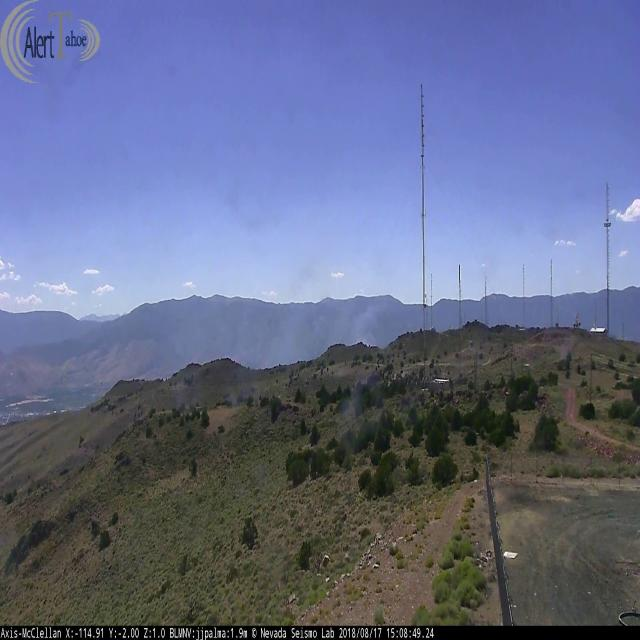smoke: (163, 35, 384, 368)
